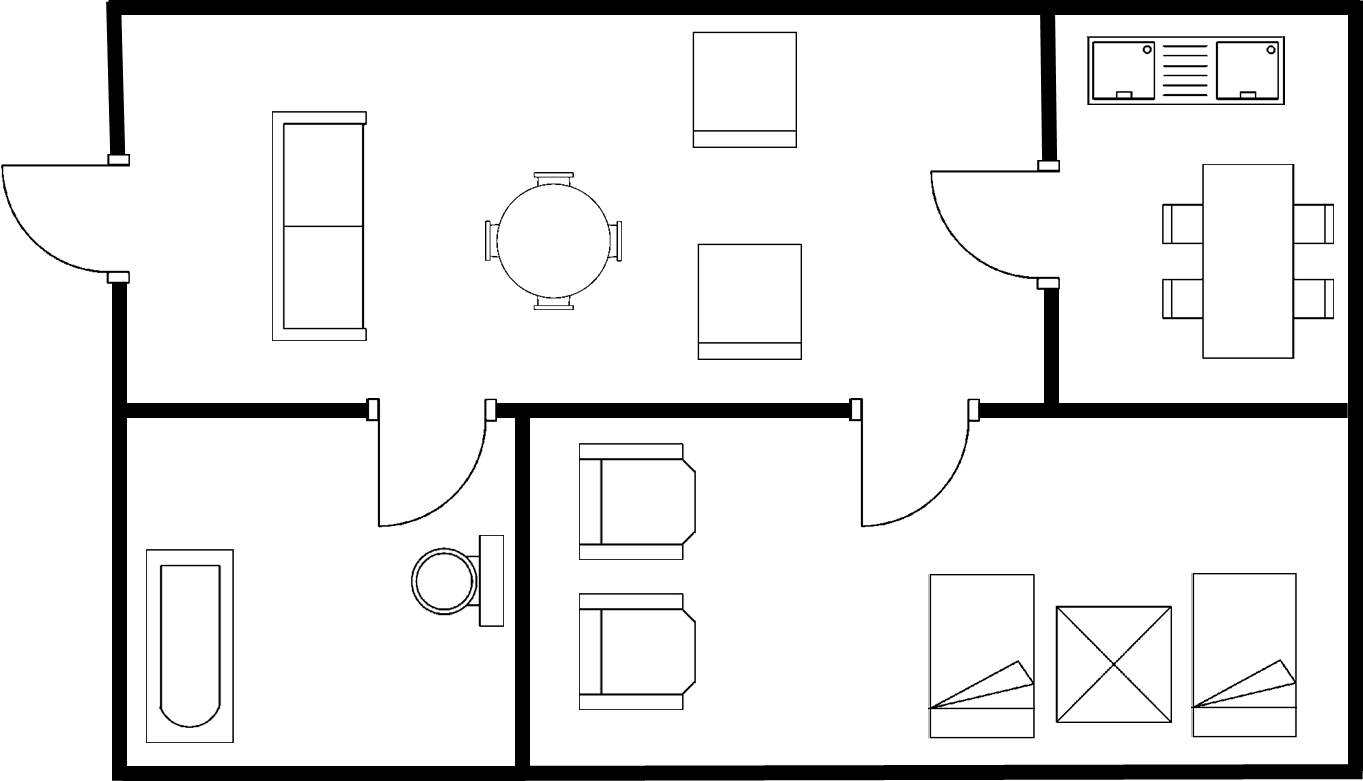armchair: (571, 436, 705, 570), (573, 588, 704, 717)
bed: (921, 566, 1044, 746), (1185, 568, 1305, 743)
coffee_table: (1050, 599, 1178, 732)
dining_table: (1155, 158, 1342, 369)
large_sink: (404, 532, 510, 632)
large_sofa: (264, 102, 373, 348)
round_table: (476, 162, 628, 319)
small_sofa: (692, 238, 809, 366), (687, 26, 801, 154)
tub: (140, 543, 241, 752)
twin_sink: (1080, 31, 1291, 112)
